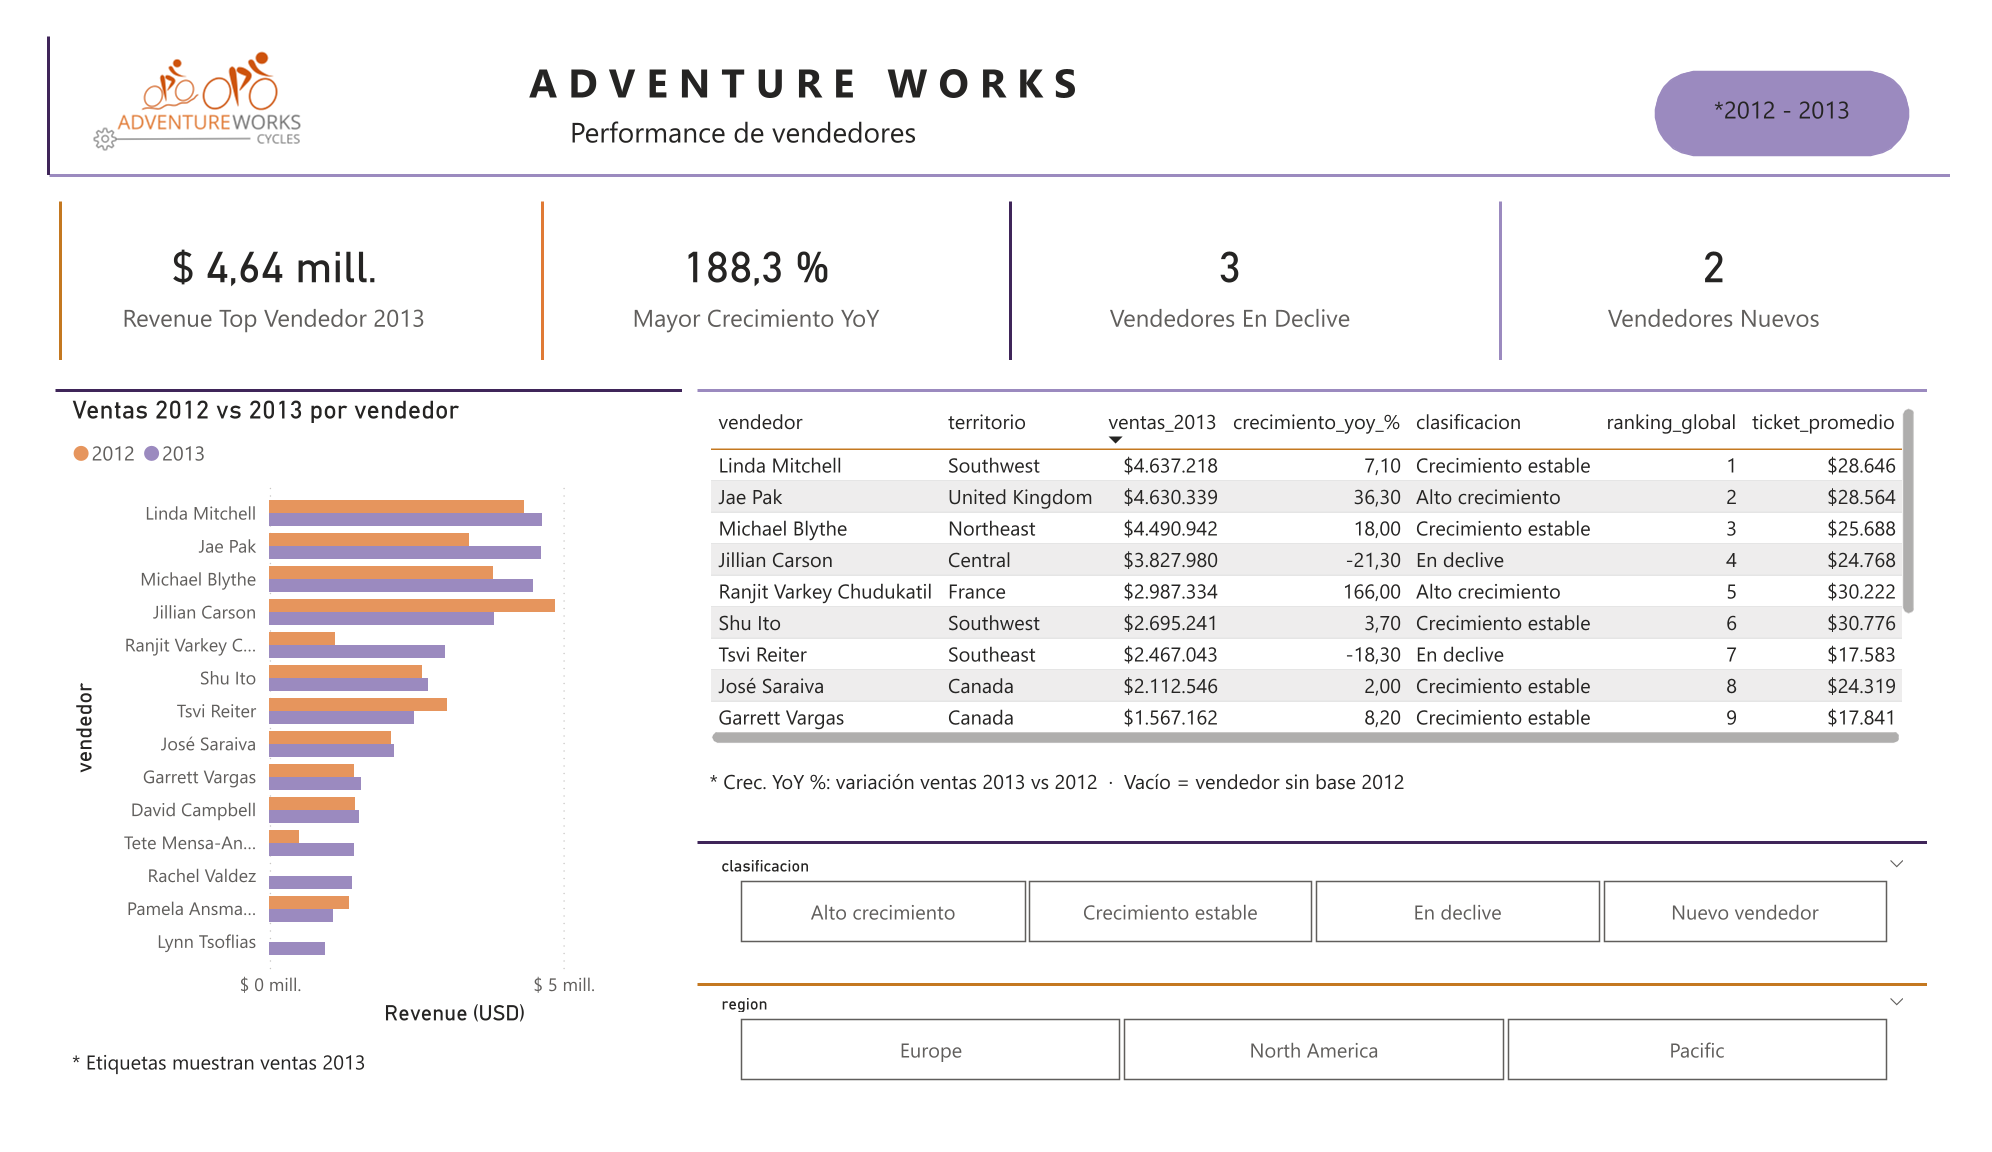

What the dashboard file says about the page in this screenshot:
{"tool":"powerbi","page":{"name":"Vendedores","canvas":[1280,720],"ordinal":2},"visuals":[{"type":"card","fields":{"Values":["Medidas.Revenue Top Vendedor 2013"]},"box":[15.7,110,285,105.7],"z":0},{"type":"card","fields":{"Values":["Medidas.Mayor Crecimiento YoY"]},"box":[337.1,110,285.7,105.7],"z":1000},{"type":"card","fields":{"Values":["Medidas.Vendedores En Declive"]},"box":[652.9,110,285.7,105.7],"z":2000},{"type":"card","fields":{"Values":["Medidas.Vendedores Nuevos"]},"box":[975.7,110,285.7,105.7],"z":3000},{"type":"clusteredBarChart","title":"Ventas 2012 vs 2013 por vendedor","fields":{"Y":["Sum(vw_seller_performance.ventas_2012)","Sum(vw_seller_performance.ventas_2013)"],"Category":["vw_seller_performance.vendedor"]},"box":[15.7,235.7,415.7,431.4],"z":4000},{"type":"tableEx","fields":{"Values":["vw_seller_performance.vendedor","vw_seller_performance.territorio","vw_seller_performance.ventas_2013","vw_seller_performance.crecimiento_yoy_pct","vw_seller_performance.clasificacion","vw_seller_performance.ranking_global","vw_seller_performance.ticket_promedio"]},"box":[441.4,238.6,820,241.4],"z":5000},{"type":"slicer","fields":{"Values":["vw_seller_performance.region"]},"box":[441.4,631.4,820,74.3],"z":6000},{"type":"slicer","fields":{"Values":["vw_seller_performance.clasificacion"]},"box":[441.4,538.6,820,75.7],"z":7000},{"type":"textbox","box":[6.7,0,1267.8,92.2],"z":9000},{"type":"textbox","box":[15.7,667.1,415.7,38.6],"z":9000},{"type":"textbox","box":[441.4,480,820,38.6],"z":10000},{"type":"image","box":[7.1,8.6,201.4,72.9],"z":11000},{"type":"shape","box":[9,90,1267,6],"z":12000},{"type":"textbox","box":[351.4,45.7,365.7,35.7],"z":15000},{"type":"textbox","box":[1078.6,22.9,170,57.1],"z":16000},{"type":"shape","box":[0,0,15.6,93.3],"z":17004},{"type":"shape","box":[12.9,110,7.1,105.7],"z":17005},{"type":"shape","box":[334.3,110,7.1,105.7],"z":17006},{"type":"shape","box":[645.7,110,7.1,105.7],"z":17007},{"type":"shape","box":[972.9,110,7.1,105.7],"z":17008},{"type":"shape","box":[441.4,230,820,12.9],"z":17009},{"type":"shape","box":[12.9,230,418.6,12.9],"z":17010},{"type":"shape","box":[441.4,531.4,820,12.9],"z":17011},{"type":"shape","box":[441.4,625.7,820,12.9],"z":17012}]}

Visuals, with their boxes in screenshot pixels (x1, y1, x2, y2), scaled from the page's 1280x720 canvas onto the 1992x1152 screenshot:
card - Medidas.Revenue Top Vendedor 2013: (left=24, top=176, right=468, bottom=345)
card - Medidas.Mayor Crecimiento YoY: (left=525, top=176, right=969, bottom=345)
card - Medidas.Vendedores En Declive: (left=1016, top=176, right=1461, bottom=345)
card - Medidas.Vendedores Nuevos: (left=1518, top=176, right=1963, bottom=345)
"Ventas 2012 vs 2013 por vendedor" clusteredBarChart: (left=24, top=377, right=671, bottom=1067)
tableEx - vw_seller_performance.vendedor x vw_seller_performance.territorio: (left=687, top=382, right=1963, bottom=768)
slicer - vw_seller_performance.region: (left=687, top=1010, right=1963, bottom=1129)
slicer - vw_seller_performance.clasificacion: (left=687, top=862, right=1963, bottom=983)
textbox: (left=10, top=0, right=1983, bottom=148)
textbox: (left=24, top=1067, right=671, bottom=1129)
textbox: (left=687, top=768, right=1963, bottom=830)
image: (left=11, top=14, right=324, bottom=130)
shape: (left=14, top=144, right=1986, bottom=154)
textbox: (left=547, top=73, right=1116, bottom=130)
textbox: (left=1679, top=37, right=1943, bottom=128)
shape: (left=0, top=0, right=24, bottom=149)
shape: (left=20, top=176, right=31, bottom=345)
shape: (left=520, top=176, right=531, bottom=345)
shape: (left=1005, top=176, right=1016, bottom=345)
shape: (left=1514, top=176, right=1525, bottom=345)
shape: (left=687, top=368, right=1963, bottom=389)
shape: (left=20, top=368, right=672, bottom=389)
shape: (left=687, top=850, right=1963, bottom=871)
shape: (left=687, top=1001, right=1963, bottom=1022)
